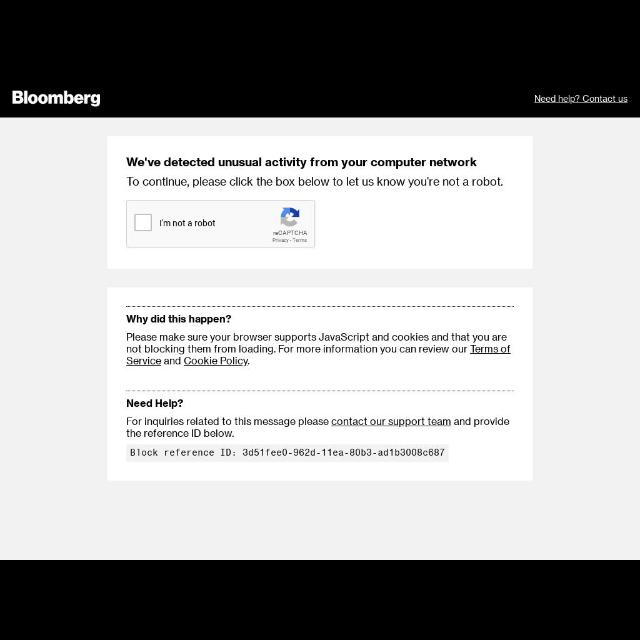checkbox: (134, 214, 152, 232)
image: (11, 88, 103, 110), (278, 206, 302, 228)
link: (534, 92, 630, 106), (331, 417, 453, 428), (183, 355, 249, 367), (471, 346, 512, 356), (128, 357, 162, 368)
text: (126, 333, 512, 369), (125, 414, 511, 442), (127, 174, 507, 192), (127, 153, 479, 169), (128, 447, 448, 459), (128, 311, 232, 325), (534, 92, 630, 106), (126, 396, 186, 410), (159, 218, 217, 230), (272, 230, 310, 244)
